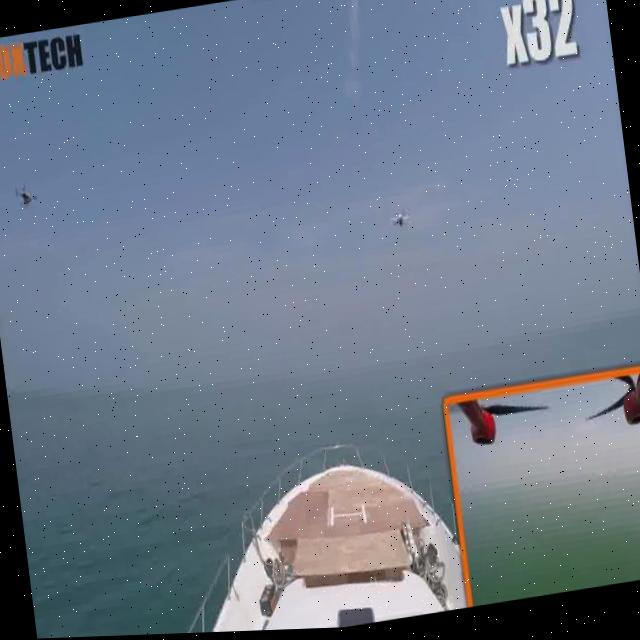drone: (8, 169, 49, 215), (380, 197, 414, 238)
